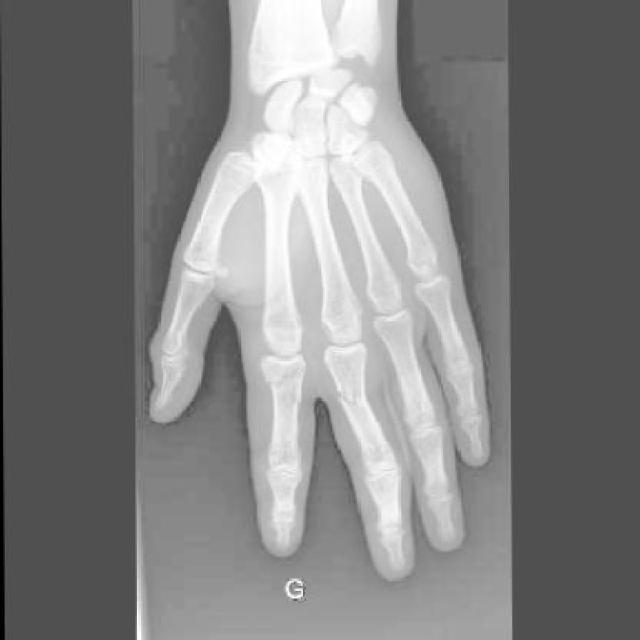Fracture: (266, 368, 307, 411), (337, 383, 368, 411)
